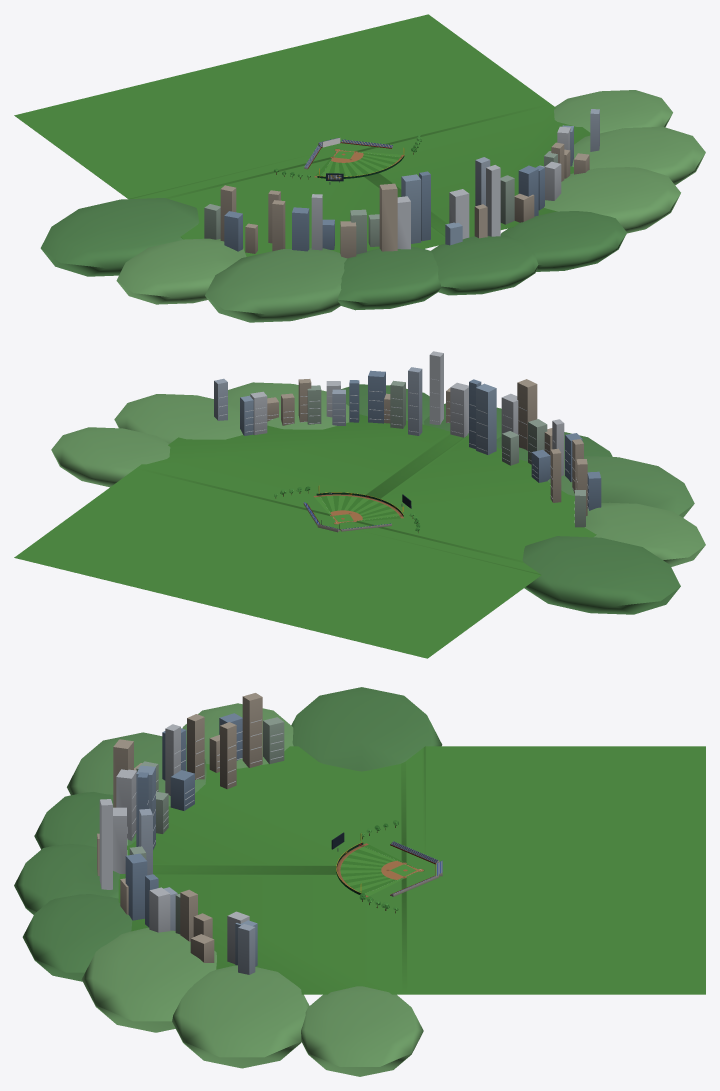
File: ground-baseball-CZdAt1w-.glb
3 renders of one model, top to bottom at view 1: azimuth 30°, elevation 25°; view 2: azimuth 150°, elevation 25°; view 3: azimuth 270°, elevation 25°, orthographic. The views are drawn at different scales.
Visible parts, largest first — view 1: arena; view 2: arena; view 3: arena.
Boxes of the visible parts, bbox=[...] form: arena: bbox=[14, 14, 705, 322]; arena: bbox=[14, 351, 705, 658]; arena: bbox=[14, 687, 705, 1076].
Size of the model in its own units: 1036 by 175 by 825.
